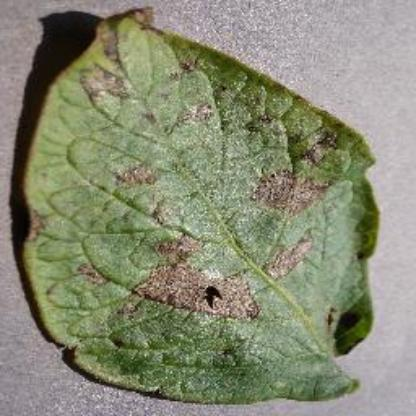Early-Blight: (19, 3, 393, 402)
